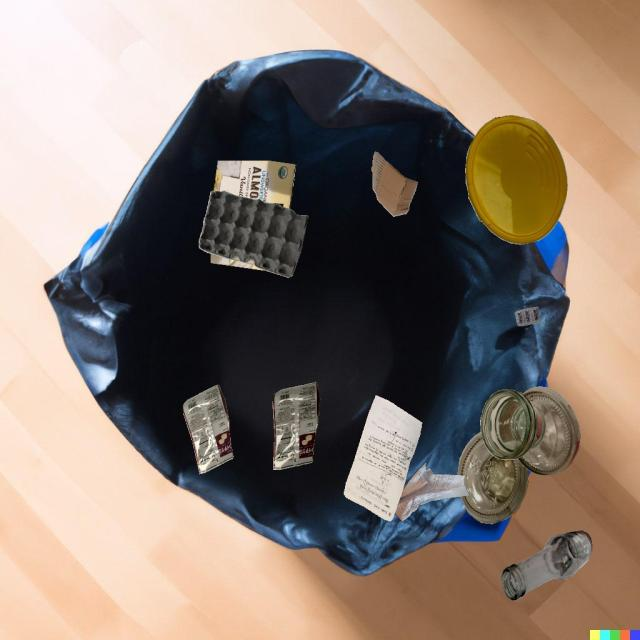cardboard: (199, 191, 308, 277), (213, 161, 296, 209), (371, 152, 418, 217)
glass: (458, 432, 528, 524), (501, 531, 593, 601), (517, 386, 580, 476), (480, 389, 546, 460)
paper: (344, 395, 422, 521), (394, 463, 470, 522)
plastic: (465, 115, 568, 245), (182, 385, 233, 474), (273, 382, 320, 470), (515, 306, 541, 326)
